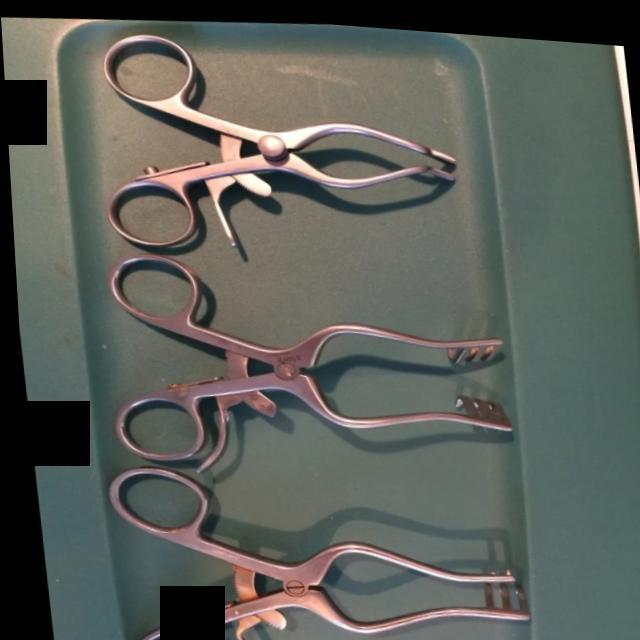Self Retractor: (92, 228, 516, 494), (54, 7, 462, 274), (94, 442, 528, 640)
